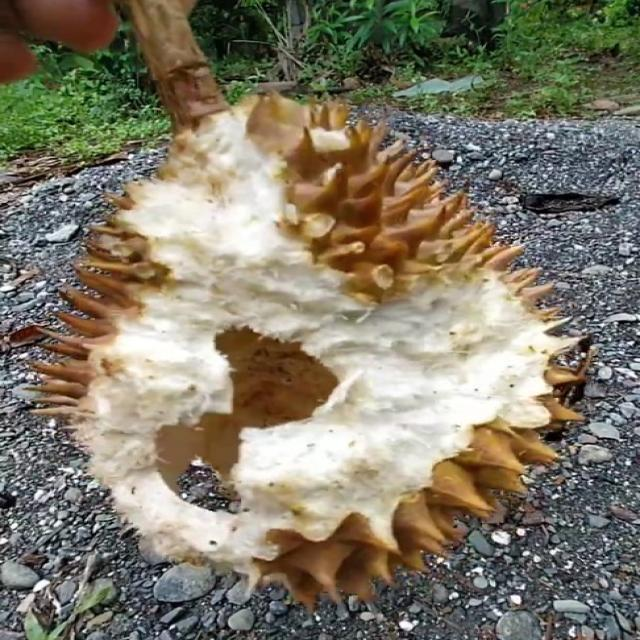defective: (32, 87, 590, 617)
